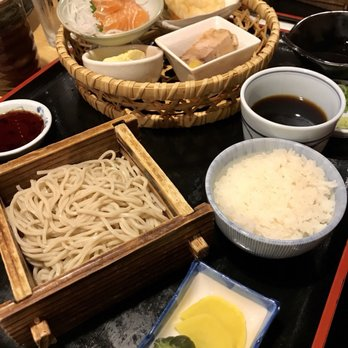Soba: (4, 152, 186, 276)
